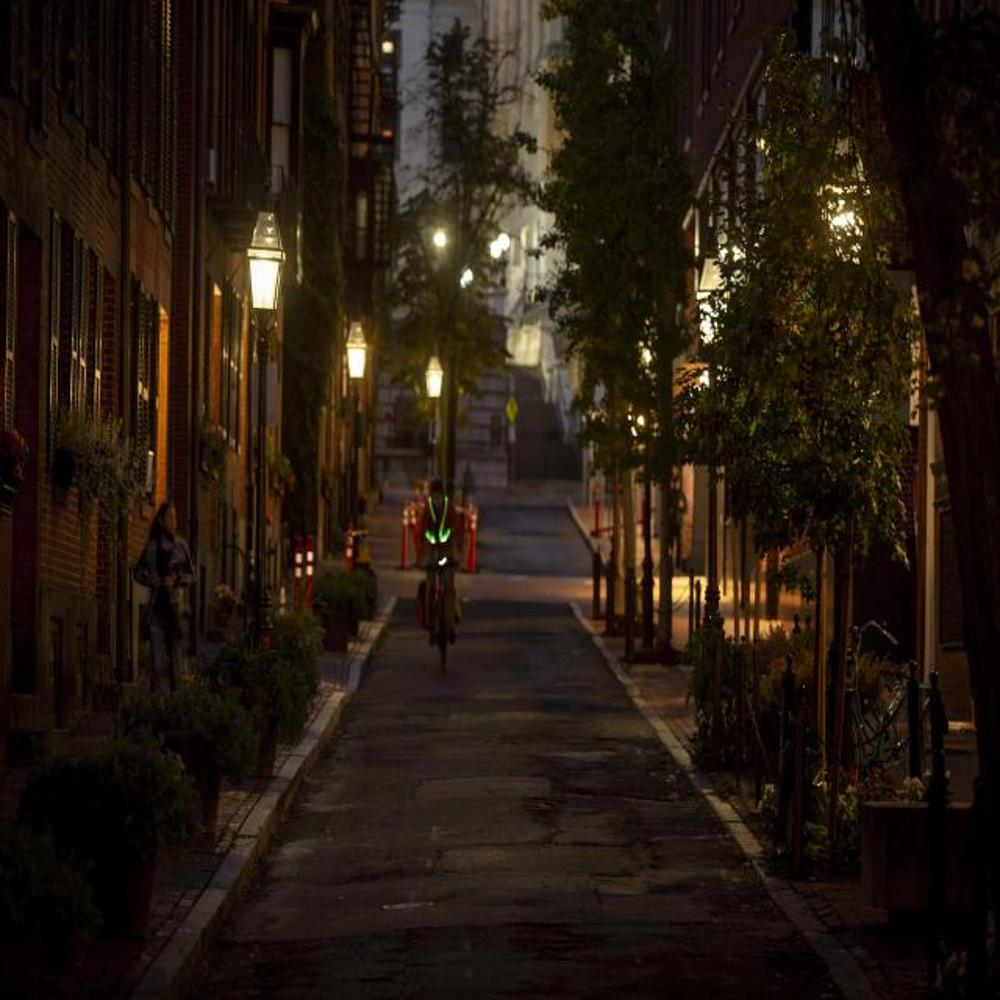shelf: (245, 191, 281, 639), (341, 260, 380, 555), (425, 344, 444, 475)
